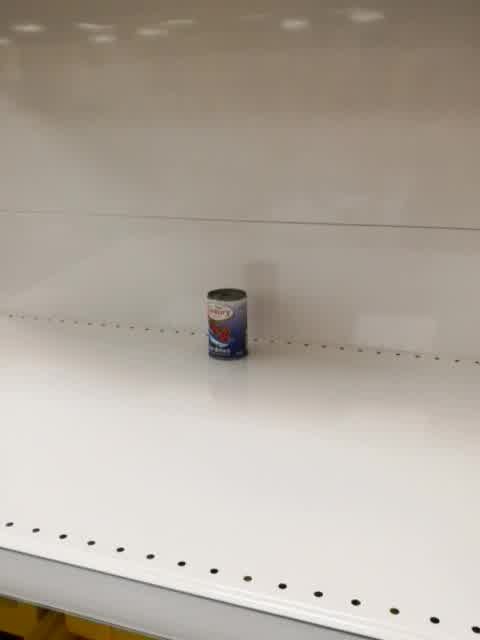sardine: (205, 286, 250, 362)
